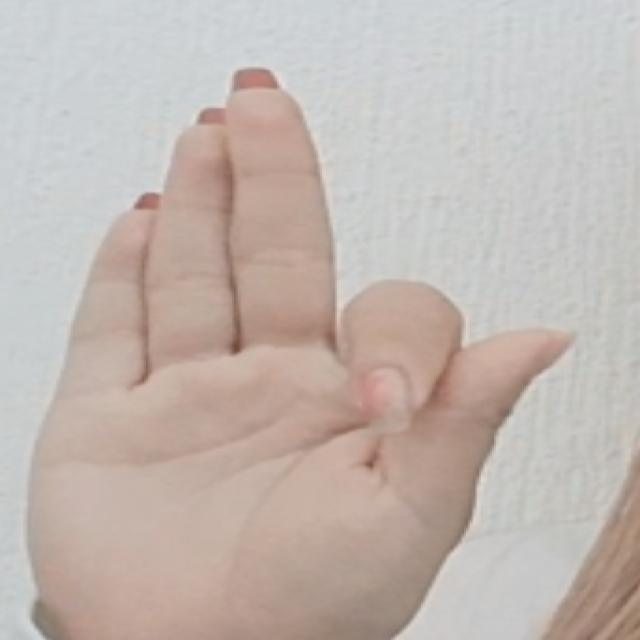F: (24, 64, 586, 632)
